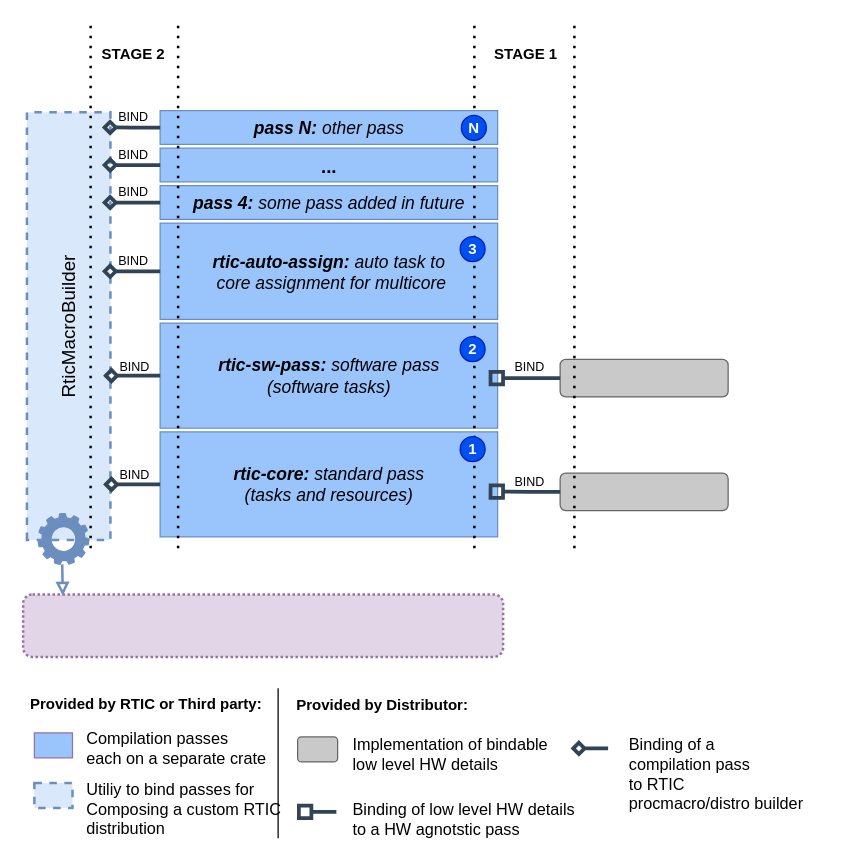
Image size: 860x868. Some labels were removed from this diagram. The centre of each missing label's shape, as x and y in pixels:
RTIC distribution for specifc target(s): point 262,625
StdPassBackend: point 643,491
SwPassBackend: point 643,377
